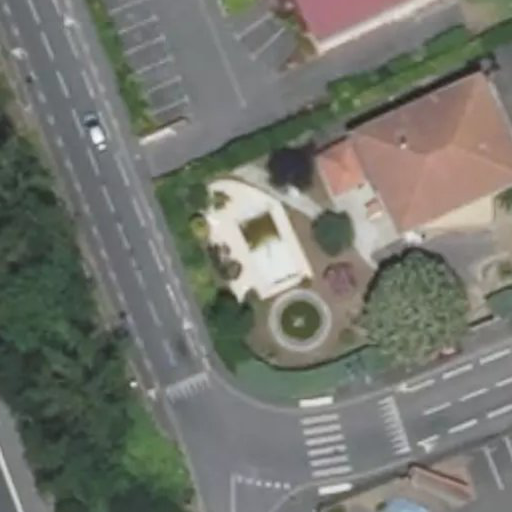pool: (222, 215, 288, 268)
